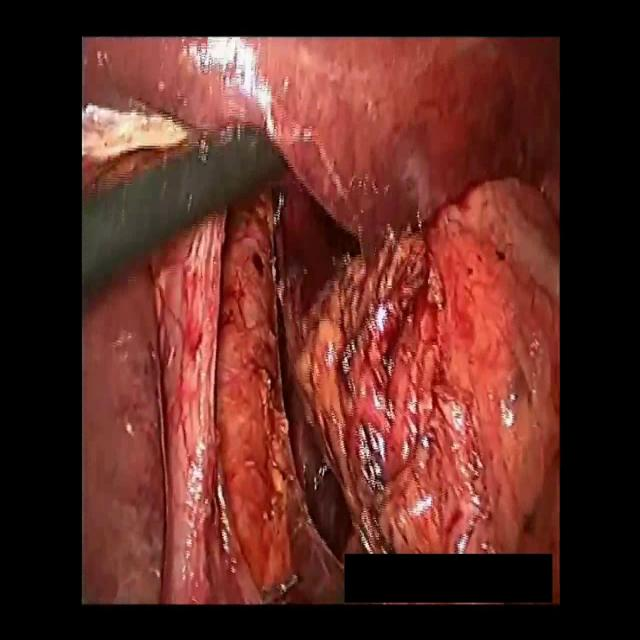surgical-area: (82, 39, 560, 605)
surgical-tool: (84, 124, 285, 308)
